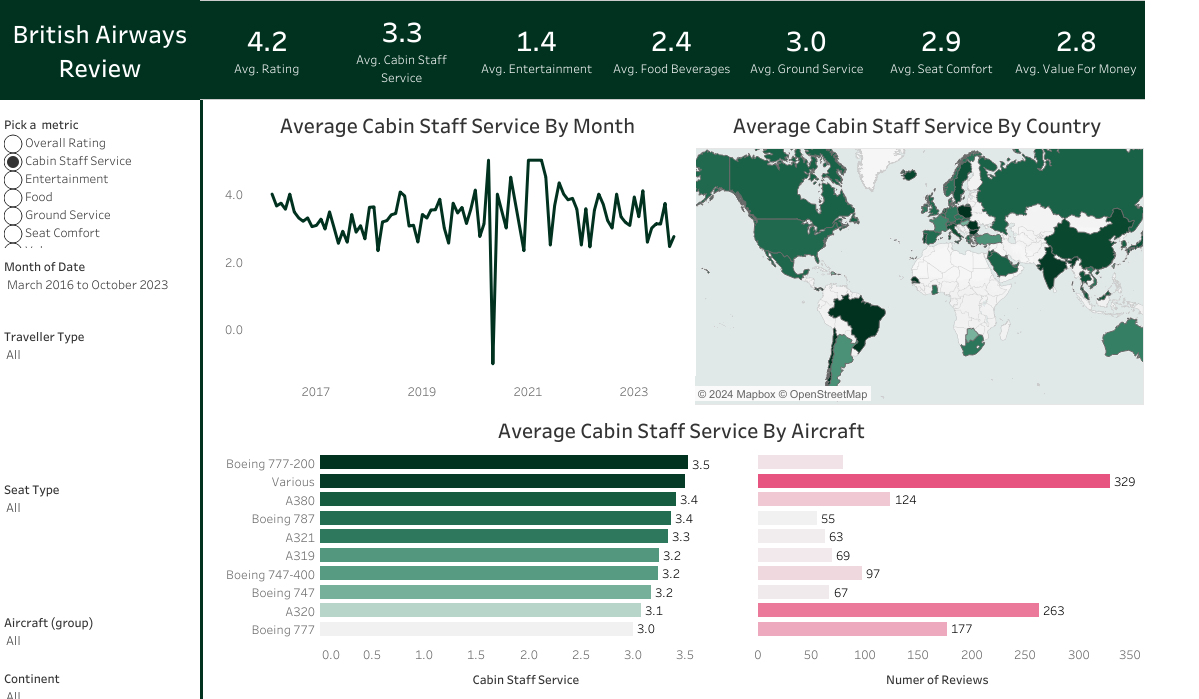

Layout of this report page (visuals, bound fields, positions):
{"tool":"tableau","page":{"name":"Dashboard 1","canvas":[1200,700],"ordinal":0},"visuals":[{"type":"text","box":[0,0,200,100]},{"type":"worksheet","title":"Summary","mark":"Automatic","box":[200,0,945,100]},{"type":"blank","box":[200,100,3,600]},{"type":"worksheet","title":"Month","mark":"Automatic","rows":["Calculation_765611964384124928"],"cols":["date"],"box":[220,105,475,300]},{"type":"worksheet","title":"Map","mark":"Automatic","box":[690,105,454,300]},{"type":"parameter","param":"[Parameters].[Rating Parameter]","box":[0,110,200,142]},{"type":"filter","title":"Map","param":"[federated.183qac511j6h3912kv7gv1db811d].[tmn:date:qk]","box":[0,252,200,69]},{"type":"filter","title":"Map","param":"[federated.183qac511j6h3912kv7gv1db811d].[none:traveller_type:nk]","box":[0,321,200,146]},{"type":"worksheet","title":"Aircraft","mark":"Automatic","cols":["Calculation_765611964384124928","ba_reviews.csv_93AED7E0A5D84593B64F56FC11D4CEDF"],"box":[220,410,923,285]},{"type":"filter","title":"Map","param":"[federated.183qac511j6h3912kv7gv1db811d].[none:seat_type:nk]","box":[0,467,200,127]},{"type":"filter","title":"Map","param":"[federated.183qac511j6h3912kv7gv1db811d].[Aircraft (group)]","box":[0,594,200,52]},{"type":"filter","title":"Map","param":"[federated.183qac511j6h3912kv7gv1db811d].[none:Continent:nk]","box":[0,646,200,52]}]}

Visuals, with their boxes in screenshot pixels (x1, y1, x2, y2), scaled from the page's 1200x700 canvas onto the 1199x699 screenshot:
text: [x1=0, y1=0, x2=200, y2=100]
"Summary" worksheet: [x1=200, y1=0, x2=1144, y2=100]
blank: [x1=200, y1=100, x2=203, y2=698]
"Month" worksheet: [x1=220, y1=105, x2=694, y2=404]
"Map" worksheet: [x1=689, y1=105, x2=1143, y2=404]
parameter: [x1=0, y1=110, x2=200, y2=252]
"Map" filter: [x1=0, y1=252, x2=200, y2=321]
"Map" filter: [x1=0, y1=321, x2=200, y2=466]
"Aircraft" worksheet: [x1=220, y1=409, x2=1142, y2=694]
"Map" filter: [x1=0, y1=466, x2=200, y2=593]
"Map" filter: [x1=0, y1=593, x2=200, y2=645]
"Map" filter: [x1=0, y1=645, x2=200, y2=697]
